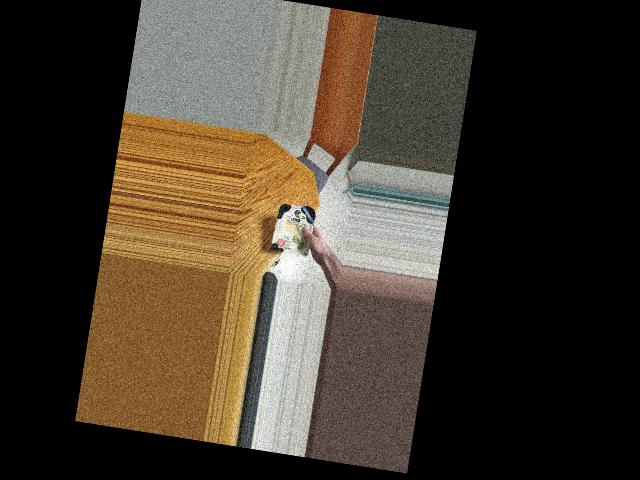cheese: (269, 190, 319, 267)
